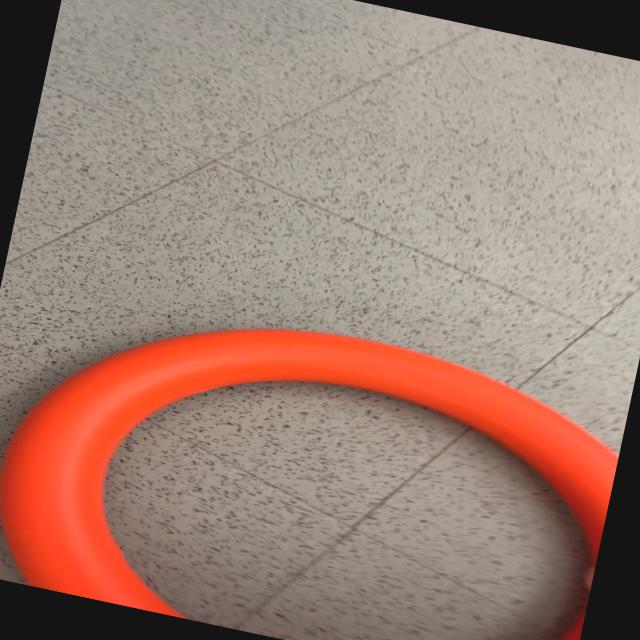note: (0, 268, 628, 640)
